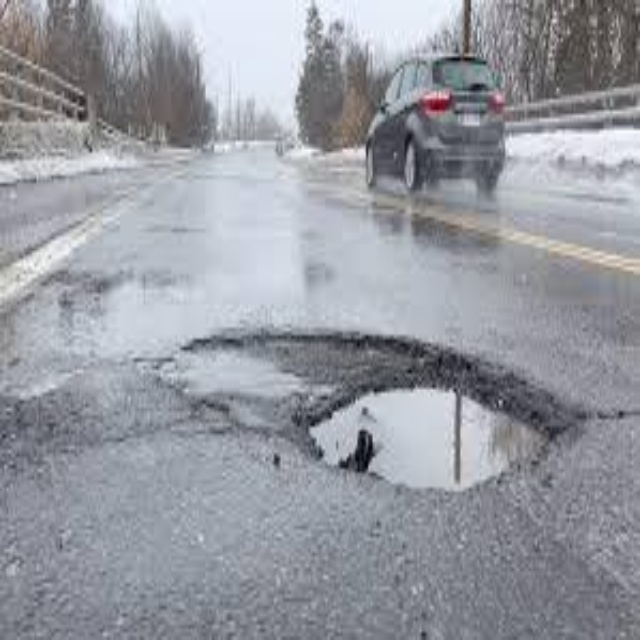pothole: (310, 389, 546, 495)
